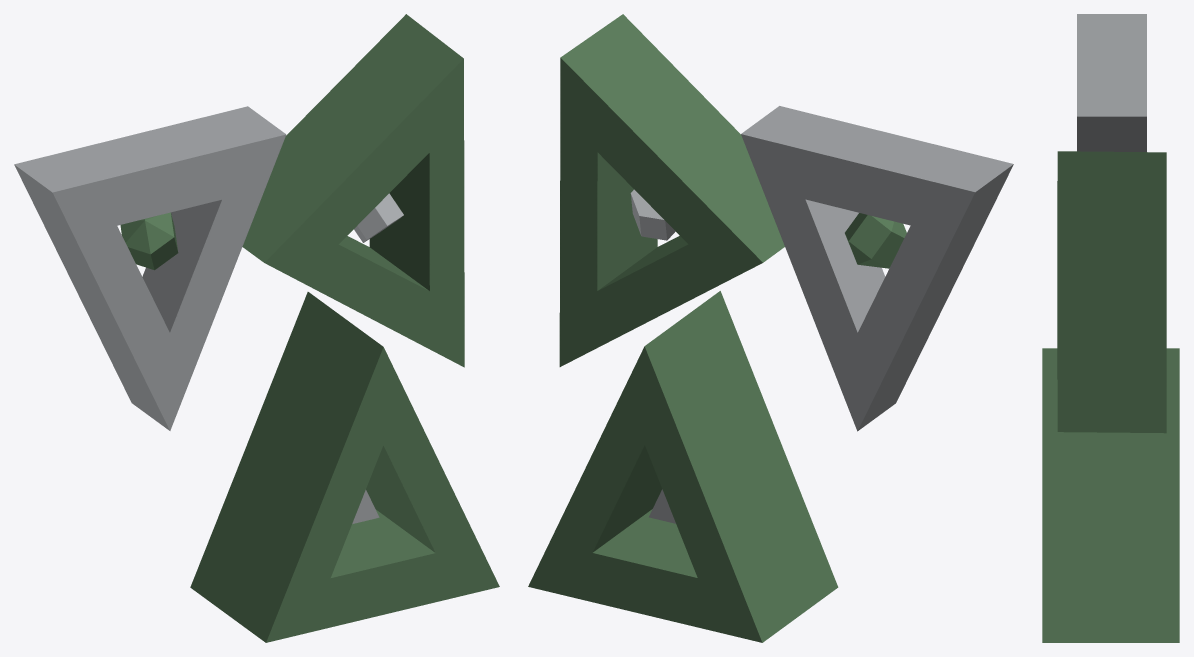
The model's file is obstaculo_abaixar_2.fbx.
3 renders of one model, left to right at view 1: azimuth 30°, elevation 25°; view 2: azimuth 150°, elevation 25°; view 3: azimuth 270°, elevation 25°, orthographic. The views are drawn at different scales.
Parts seen in each view (by area): view 1: Abaixar 2; view 2: Abaixar 2; view 3: Abaixar 2.
Part boxes in pixels (x1,y1,x2,y2): Abaixar 2: (14,14,499,642); Abaixar 2: (528,14,1013,642); Abaixar 2: (1042,14,1179,642).
Size of the model in its own units: 153 by 180 by 46.79.
